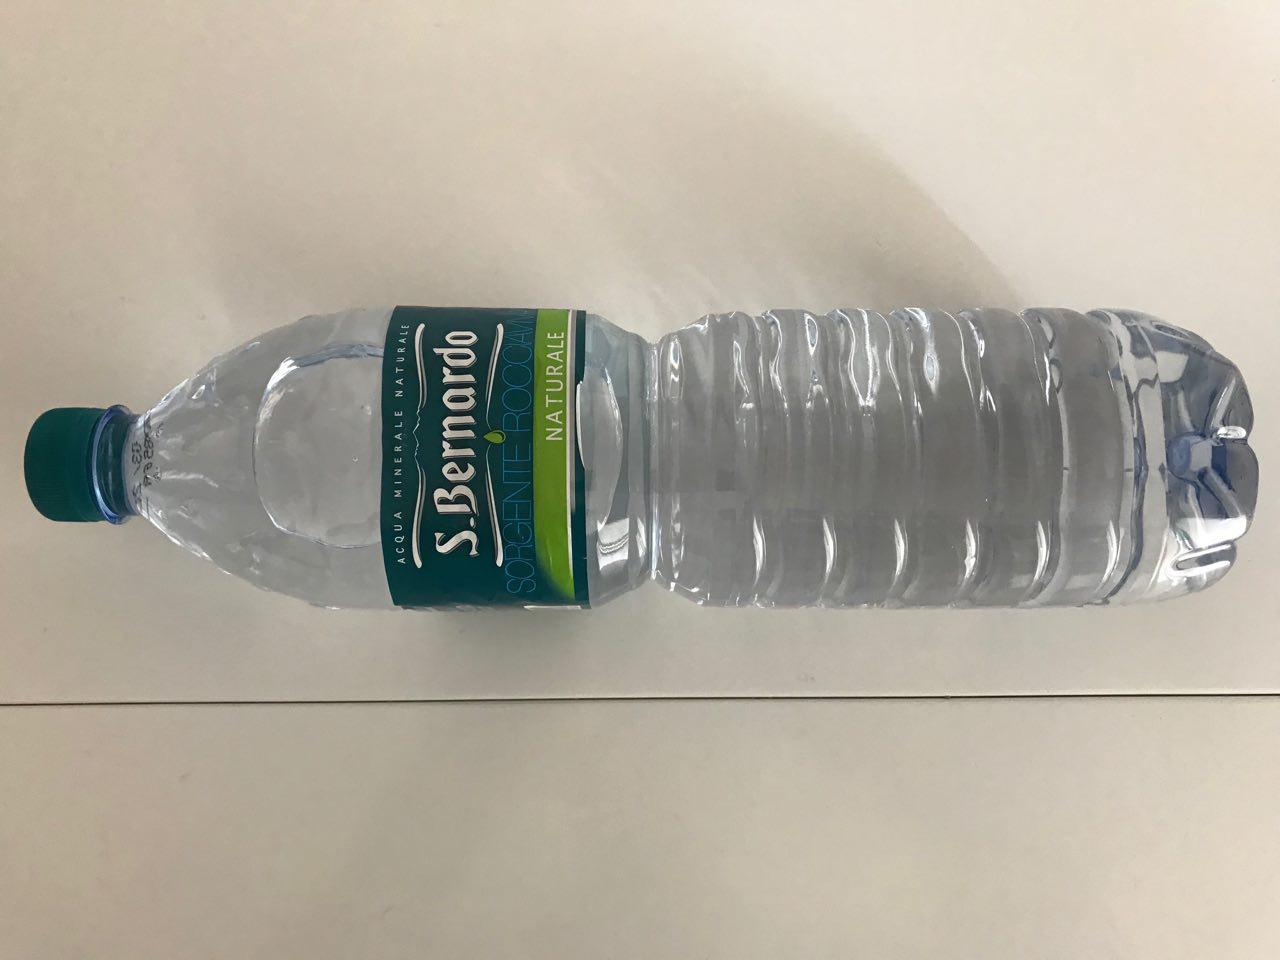san_bernardo: (22, 301, 1262, 614)
